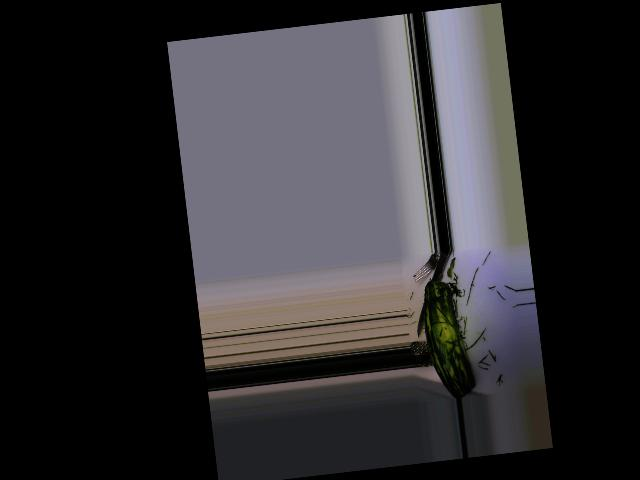cucumber: (419, 276, 477, 400)
